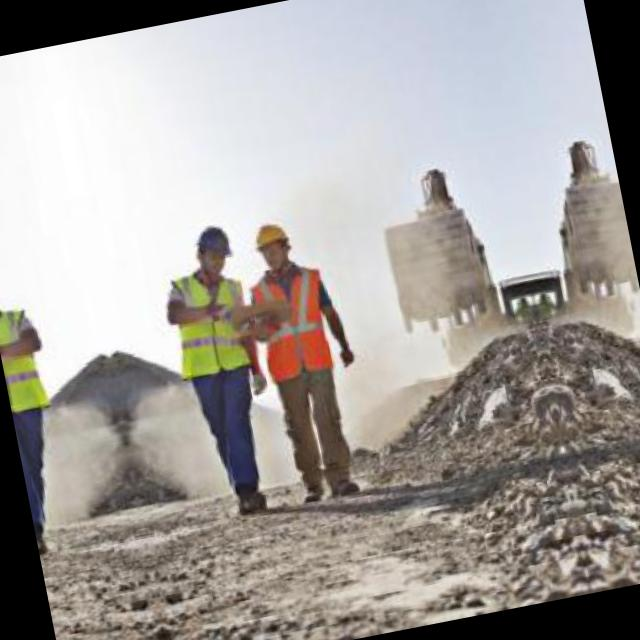helmet: (242, 211, 299, 276), (184, 218, 238, 278)
